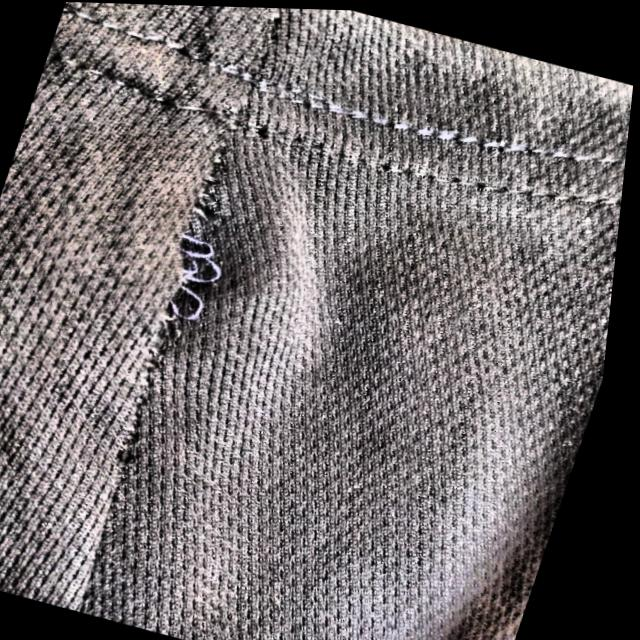Stitch: (151, 203, 259, 334)
